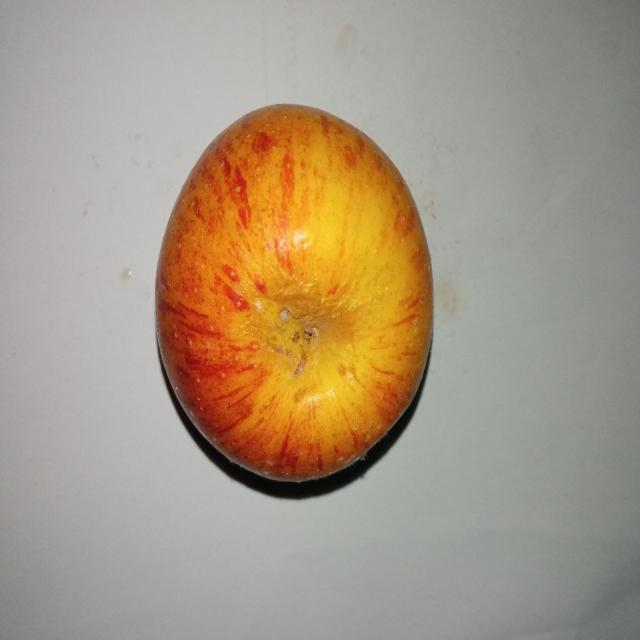fresh_apple: (154, 105, 432, 482)
